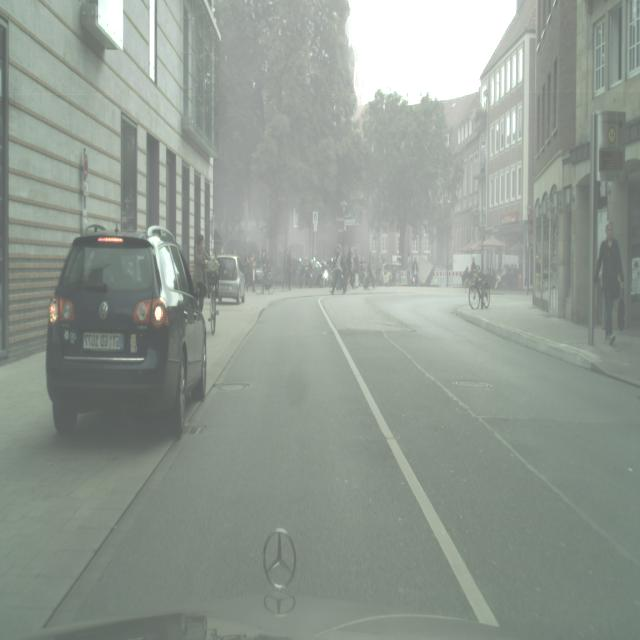bus: (45, 224, 208, 439), (217, 254, 245, 304)
car: (468, 275, 490, 309), (208, 279, 218, 335)
person: (594, 221, 625, 346), (193, 233, 209, 318), (330, 244, 344, 294), (283, 246, 292, 291), (245, 252, 254, 292)
